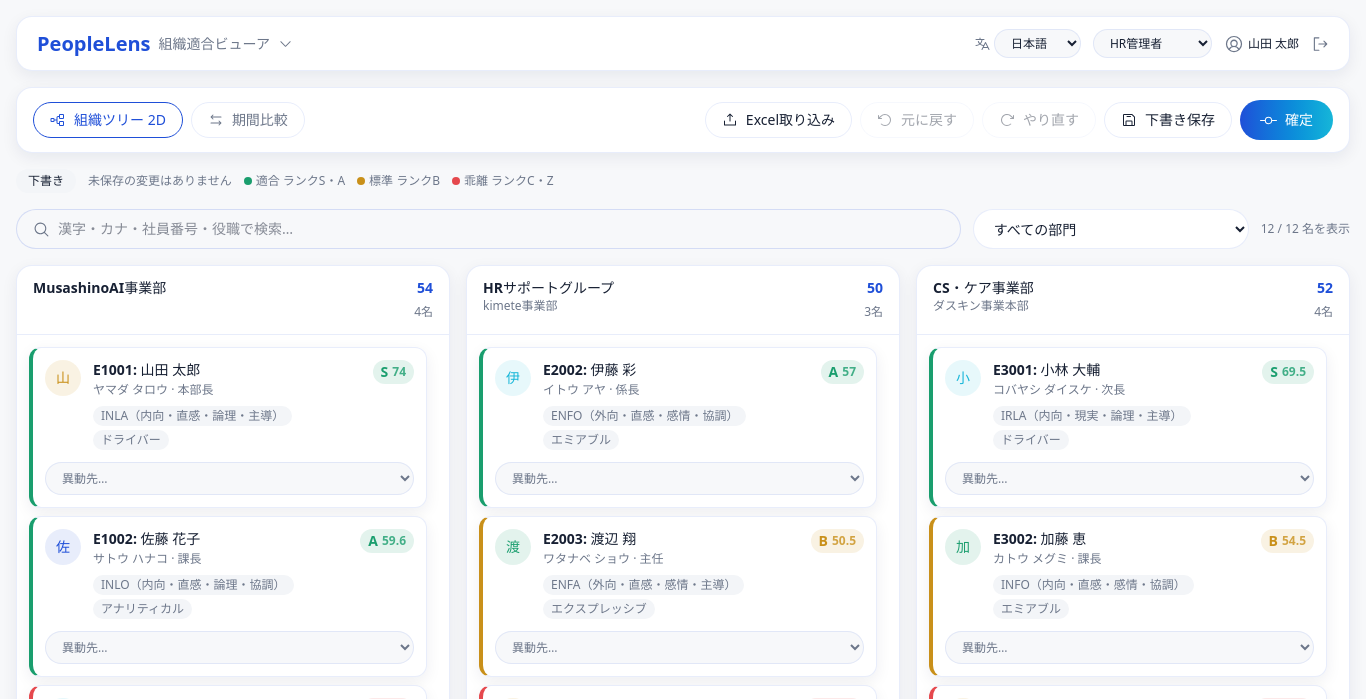
it: PeopleLens organization board › opens the protected tab unlocked for the default HR admin role
Click the button with aria-label "E1001 山田 太郎" at (230, 405), box [45,360,414,450]
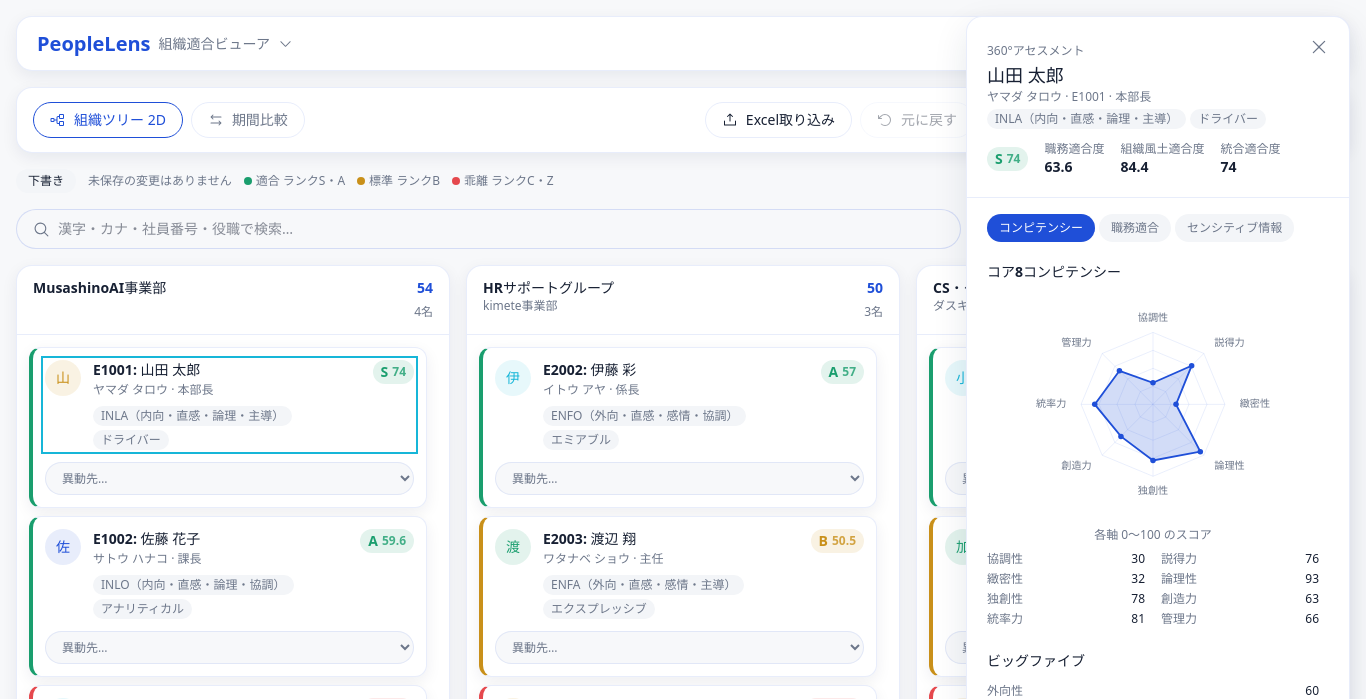
Click the tab "センシティブ情報" at (1235, 228), box [1175,214,1294,242]
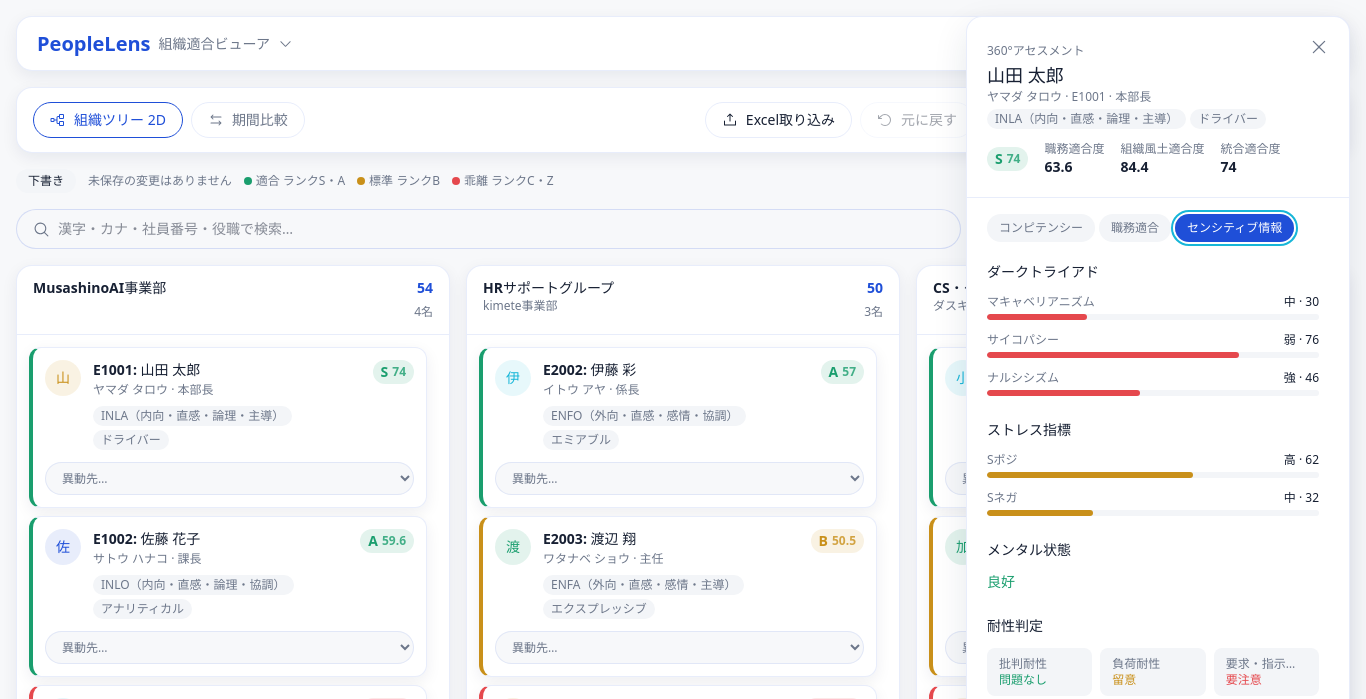
Now the heading "ダークトライアド" is shown, box [987,262,1099,281]
